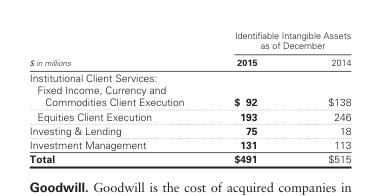table: (28, 29, 350, 164)
table column: (28, 29, 208, 164), (208, 29, 292, 164), (292, 29, 350, 164)
table column header: (28, 29, 350, 69)
table projected row header: (28, 69, 350, 83)
table row: (28, 83, 350, 108), (28, 29, 350, 53), (28, 53, 350, 69), (28, 108, 350, 123), (28, 69, 350, 83), (28, 123, 350, 137), (28, 137, 350, 151), (28, 151, 350, 164)
table spanning cell: (28, 29, 208, 69), (208, 29, 350, 53)
